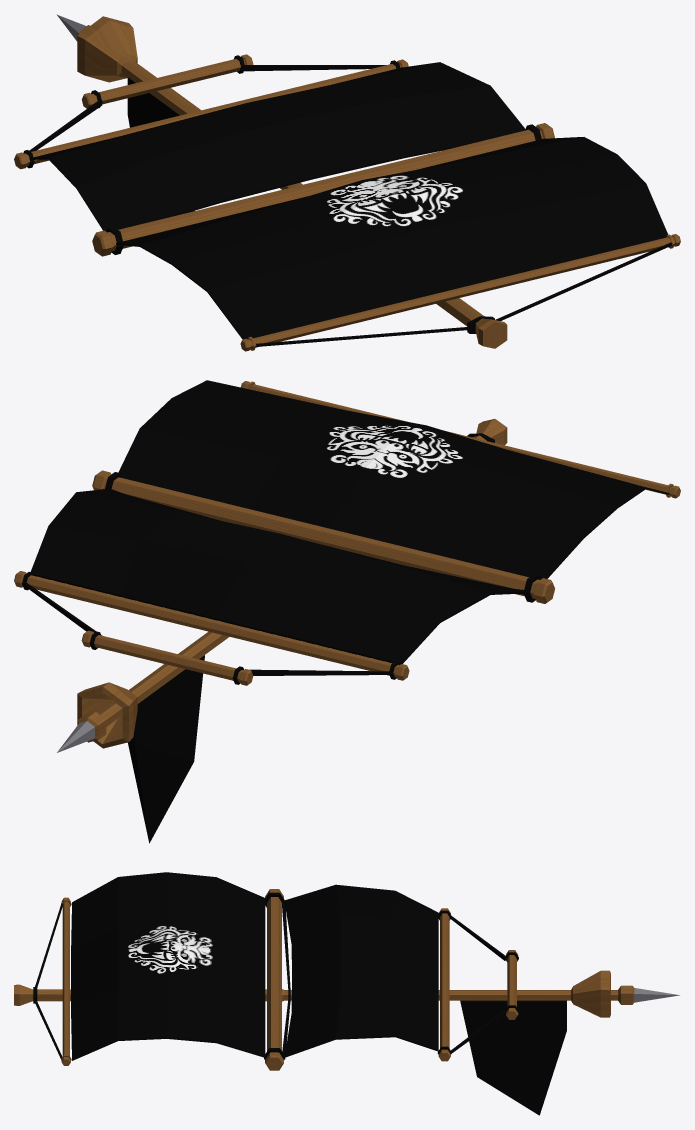
File: sail_a_18.fbx
3 renders of one model, top to bottom at view 1: azimuth 30°, elevation 25°; view 2: azimuth 150°, elevation 25°; view 3: azimuth 270°, elevation 25°, orthographic. The views are drawn at different scales.
Visible parts, largest first — view 1: Cube.072; view 2: Cube.072; view 3: Cube.072.
Boxes of the visible parts, x1=… form: Cube.072: x1=14, y1=14, x2=680, y2=351; Cube.072: x1=14, y1=380, x2=680, y2=843; Cube.072: x1=14, y1=872, x2=679, y2=1115.
Size of the model in its own units: 188 by 89.17 by 315.
